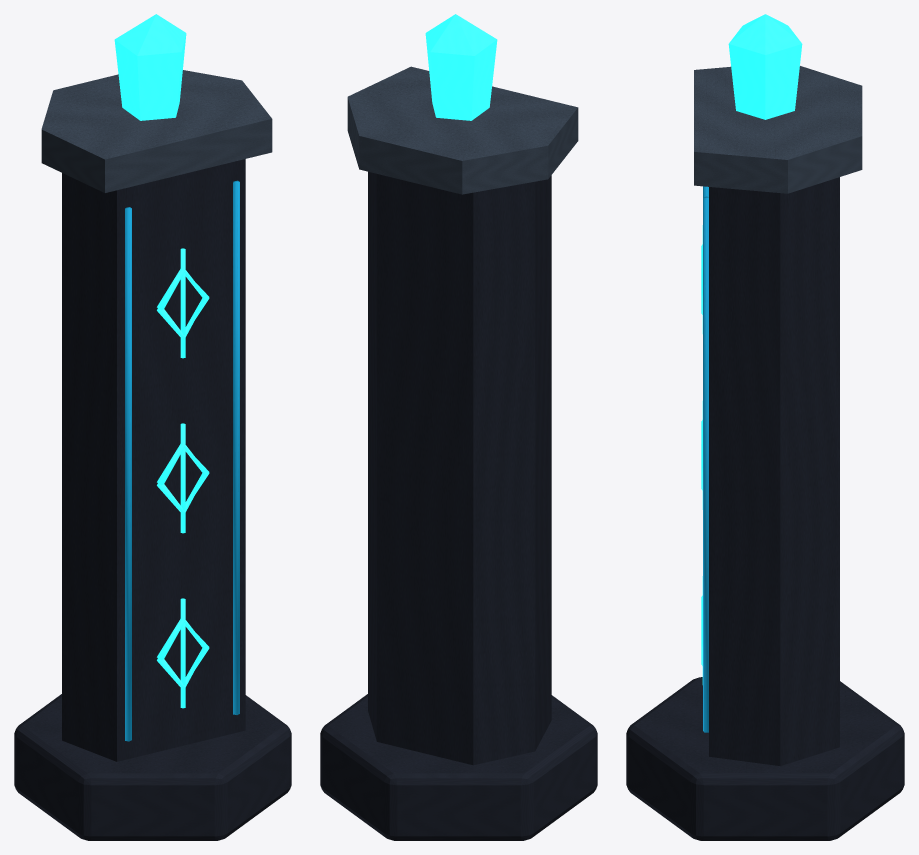
Rendered from AlienPillar.fbx.
3 views of the same model, side by side, from view 1: azimuth 30°, elevation 25°; view 2: azimuth 150°, elevation 25°; view 3: azimuth 270°, elevation 25° (orthographic).
Parts seen in each view (by area): view 1: SM_AlienPillar; view 2: SM_AlienPillar; view 3: SM_AlienPillar.
Boxes of the visible parts, box(x1,y1,x2,y2) form: SM_AlienPillar: box(14, 14, 291, 840); SM_AlienPillar: box(320, 14, 597, 840); SM_AlienPillar: box(626, 14, 904, 840).
Size of the model in its own units: 165 by 187 by 578.
1 material, 1 textured.
